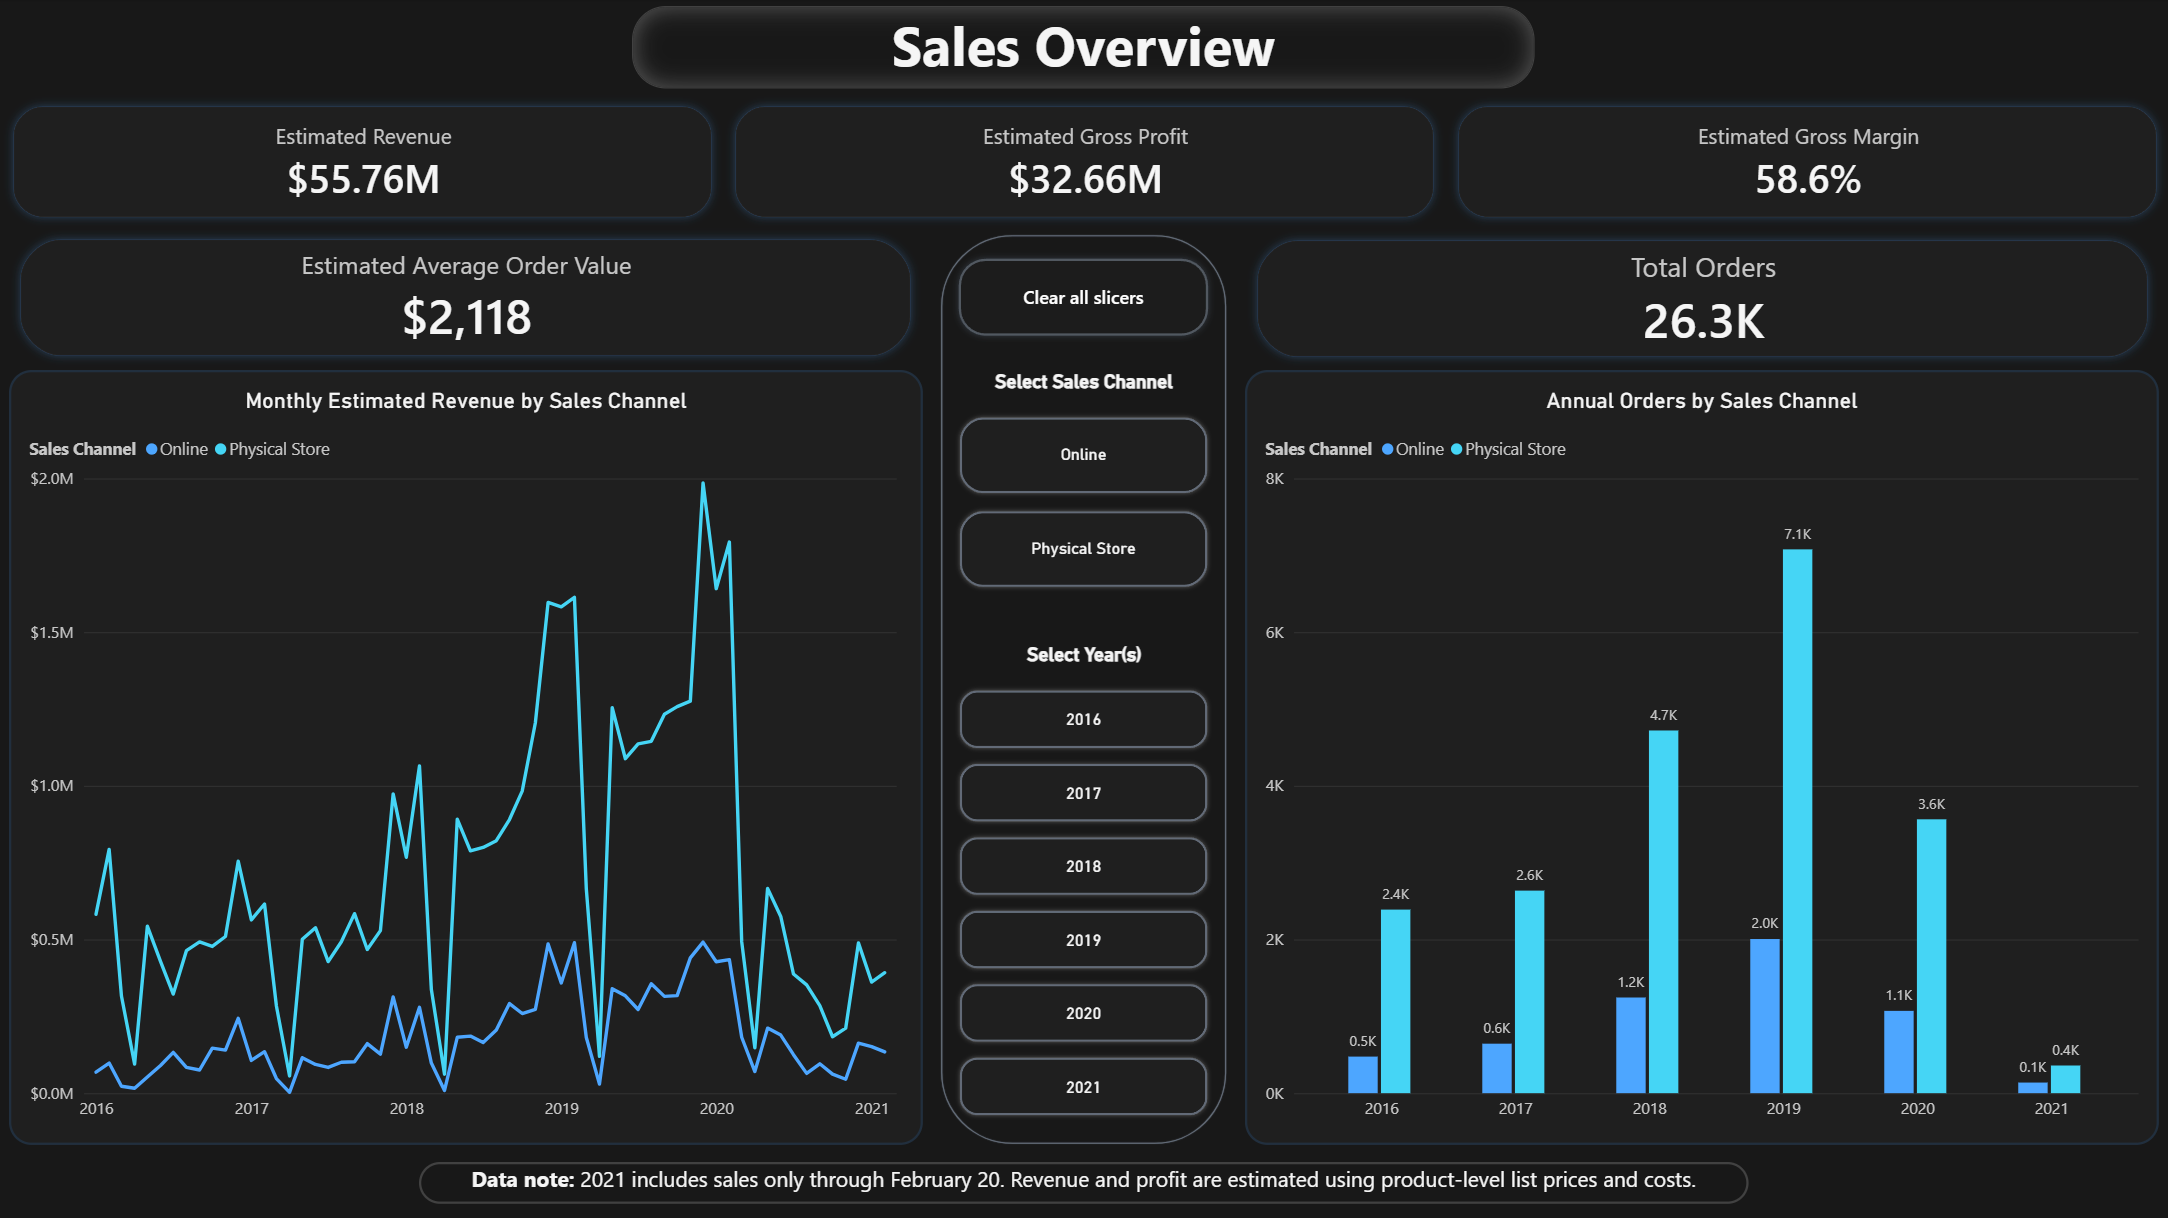

What the dashboard file says about the page in this screenshot:
{"tool":"powerbi","page":{"name":"Sales Overview","canvas":[1920,1080],"ordinal":0},"visuals":[{"type":"shape","box":[832.3,207.8,254.3,806.5],"z":0},{"type":"cardVisual","fields":{"Data":["_Measures.Estimated Revenue USD"]},"box":[0.6,83.7,640,120],"z":1000},{"type":"cardVisual","fields":{"Data":["_Measures.Average Order Value"]},"box":[7.2,201.6,810,125],"z":2000},{"type":"advancedSlicerVisual","title":"Select Year(s)","fields":{"Values":["Calendar.calendar_year"]},"box":[842.6,569.7,233.6,429.6],"z":3000},{"type":"advancedSlicerVisual","title":"Select Sales Channel","fields":{"Values":["Stores.sales_channel"]},"box":[842.6,328.8,233.7,199.5],"z":4000},{"type":"cardVisual","fields":{"Data":["_Measures.Gross Margin %"]},"box":[1280,83.7,640,120],"z":5000},{"type":"cardVisual","fields":{"Data":["_Measures.Estimated Gross Profit USD"]},"box":[640.3,83.7,640,120],"z":6000},{"type":"cardVisual","fields":{"Data":["_Measures.Order Count"]},"box":[1102.2,202.6,810,125],"z":7000},{"type":"lineChart","title":"Monthly Estimated Revenue by Sales Channel","fields":{"Category":["Calendar.month_start"],"Series":["Stores.sales_channel"],"Y":["_Measures.Estimated Revenue USD"]},"box":[7.5,328.8,809.3,685.8],"z":8000},{"type":"clusteredColumnChart","title":"Annual Orders by Sales Channel","fields":{"Category":["Calendar.calendar_year"],"Series":["Stores.sales_channel"],"Y":["_Measures.Order Count"]},"box":[1102.3,328.8,809.3,685.8],"z":9000},{"type":"textbox","box":[559.5,6.2,799.4,72.6],"z":10000},{"type":"actionButton","box":[842.6,224.4,232.7,80.1],"z":11000},{"type":"textbox","box":[371.2,1029.7,1176.7,36.7],"z":12000}]}

Visuals, with their boxes in screenshot pixels (x1, y1, x2, y2), scaled from the page's 1920x1080 canvas onto the 2168x1218 screenshot:
shape: bbox=(940, 234, 1227, 1144)
cardVisual - _Measures.Estimated Revenue USD: bbox=(1, 94, 723, 230)
cardVisual - _Measures.Average Order Value: bbox=(8, 227, 923, 368)
"Select Year(s)" advancedSlicerVisual: bbox=(951, 642, 1215, 1127)
"Select Sales Channel" advancedSlicerVisual: bbox=(951, 371, 1215, 596)
cardVisual - _Measures.Gross Margin %: bbox=(1445, 94, 2167, 230)
cardVisual - _Measures.Estimated Gross Profit USD: bbox=(723, 94, 1446, 230)
cardVisual - _Measures.Order Count: bbox=(1245, 228, 2159, 369)
"Monthly Estimated Revenue by Sales Channel" lineChart: bbox=(8, 371, 922, 1144)
"Annual Orders by Sales Channel" clusteredColumnChart: bbox=(1245, 371, 2159, 1144)
textbox: bbox=(632, 7, 1534, 89)
actionButton: bbox=(951, 253, 1214, 343)
textbox: bbox=(419, 1161, 1748, 1203)
